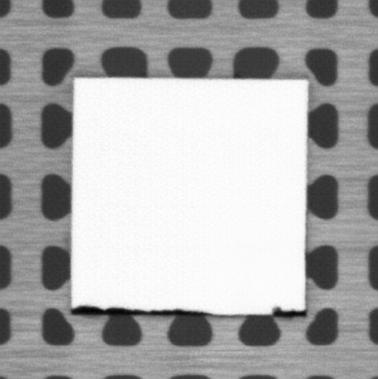DIE_BROKEN: (70, 303, 213, 317), (270, 304, 307, 318)
